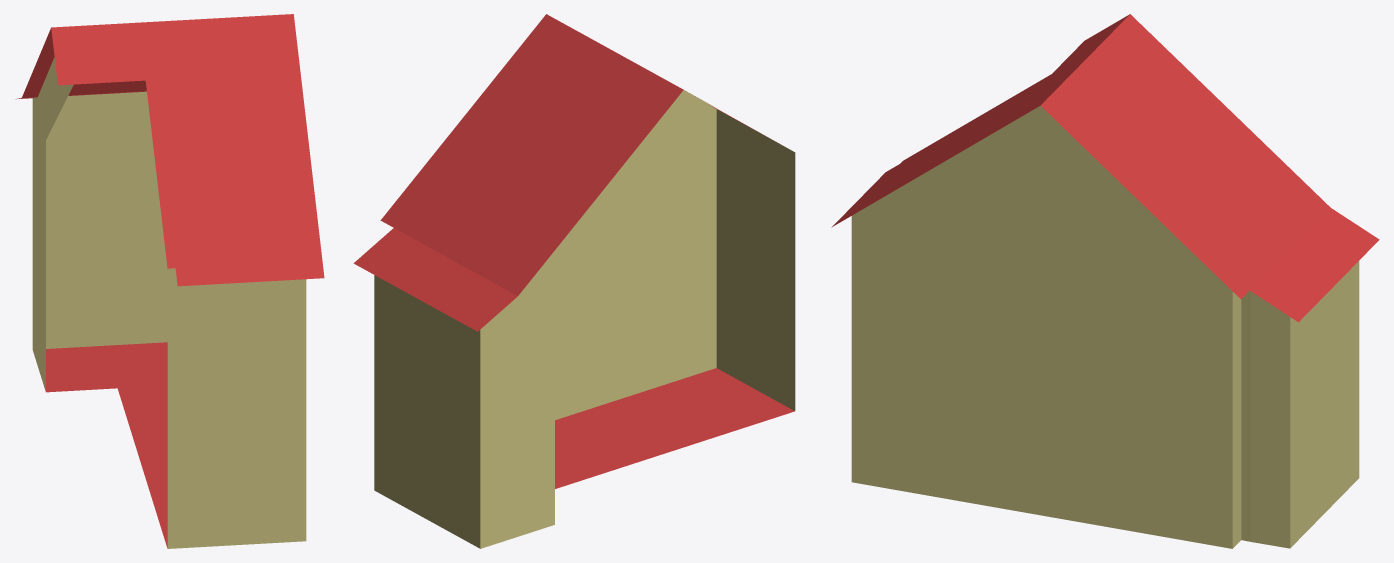
The picture shows the model from 3 angles, left to right: view 1: azimuth 30°, elevation 25°; view 2: azimuth 150°, elevation 25°; view 3: azimuth 270°, elevation 25°; orthographic projection. The views are drawn at different scales.
Size of the model in its own units: 10.28 by 17.67 by 14.82.
